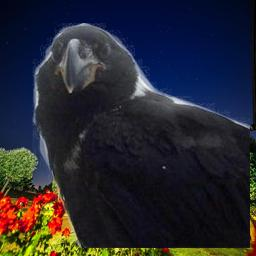Crow: (31, 23, 250, 248)
